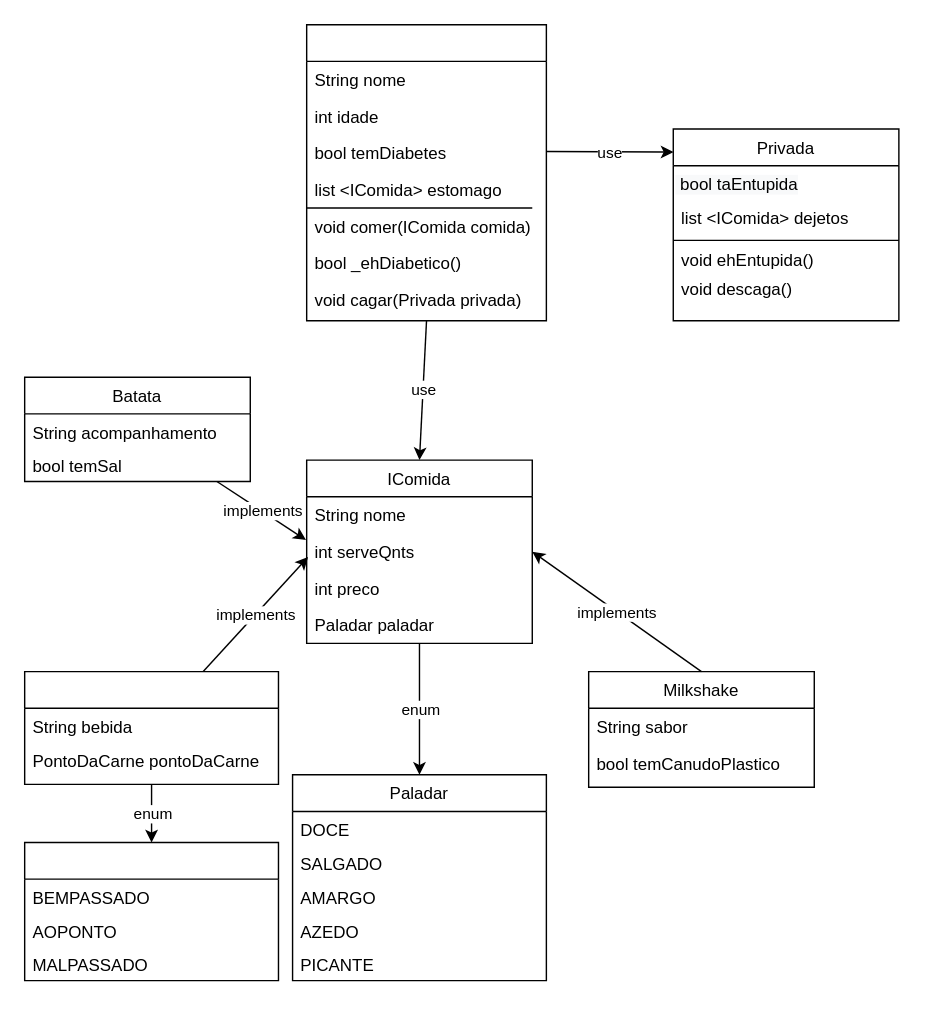
This 925x1010 diagram has some shape labels left out. The shapes that lost their labels are listed below. From the top down, each one's box as (x1, y1, x2, y2) in pixels, then its label:
(305, 23, 546, 321): Pessoa
(23, 670, 278, 784): Hamburguer
(23, 841, 278, 981): PontoDaCarne
